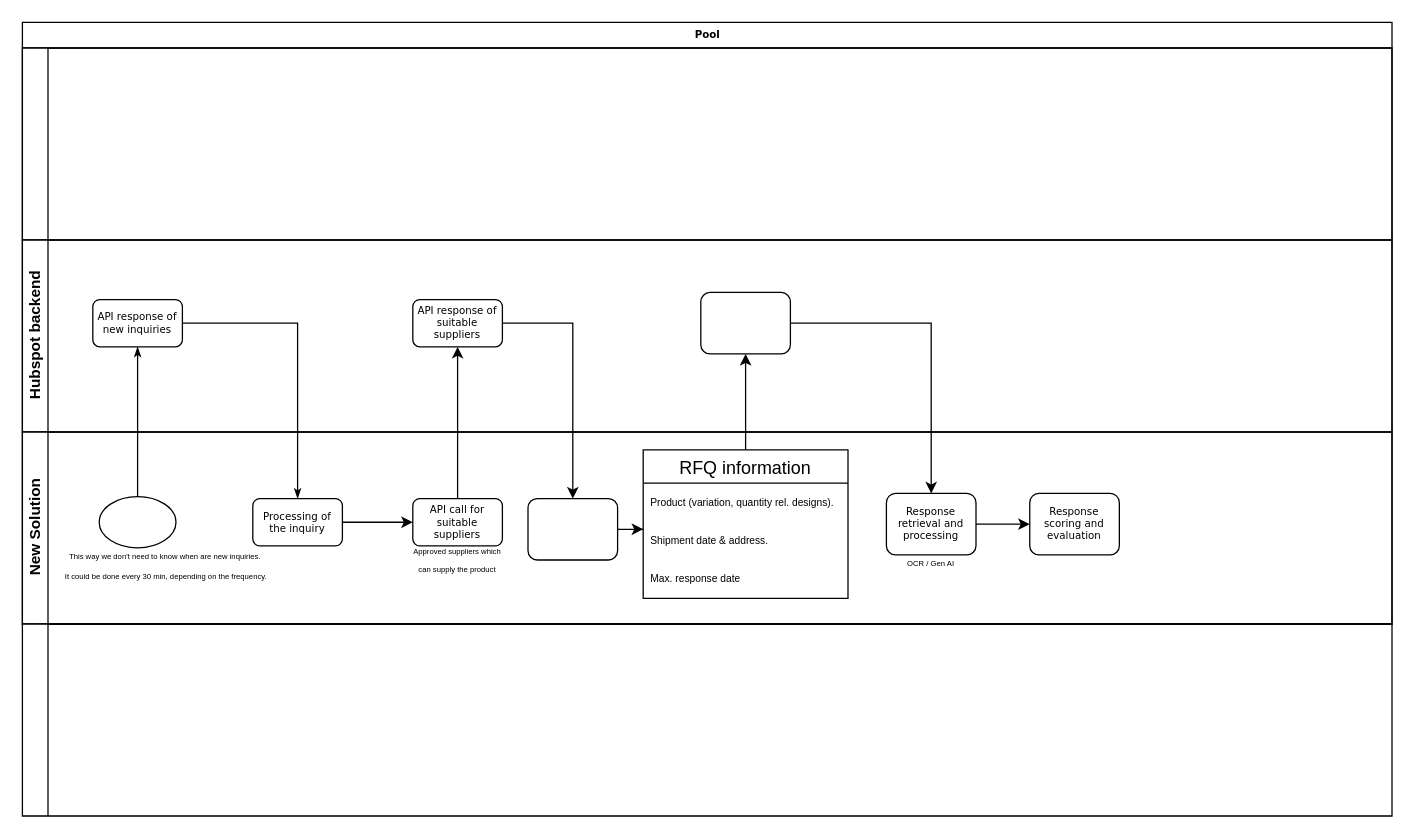
This 1414x838 diagram has some shape labels left out. Each missing label, with the centre of its shape:
Batch call: the point at 137,521
Email sending: the point at 745,322
HubSpot frontend: the point at 706,143
New Solution db: the point at 706,719
Selection of products for suppliers: the point at 572,528
